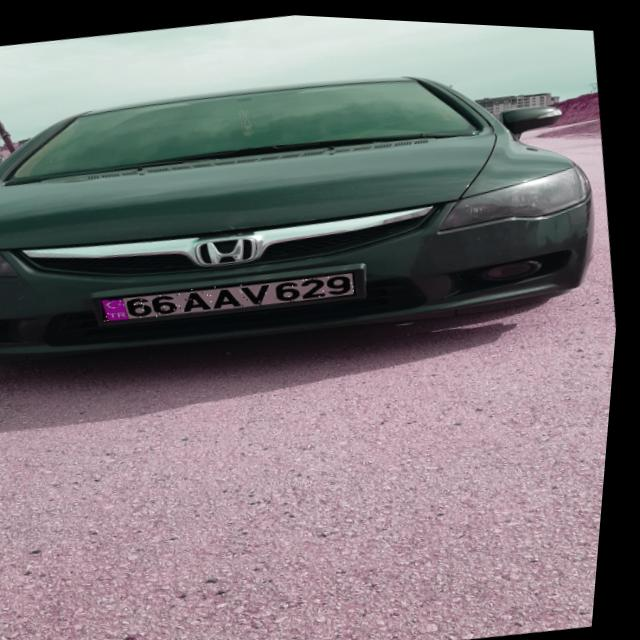plate: (105, 258, 363, 331)
